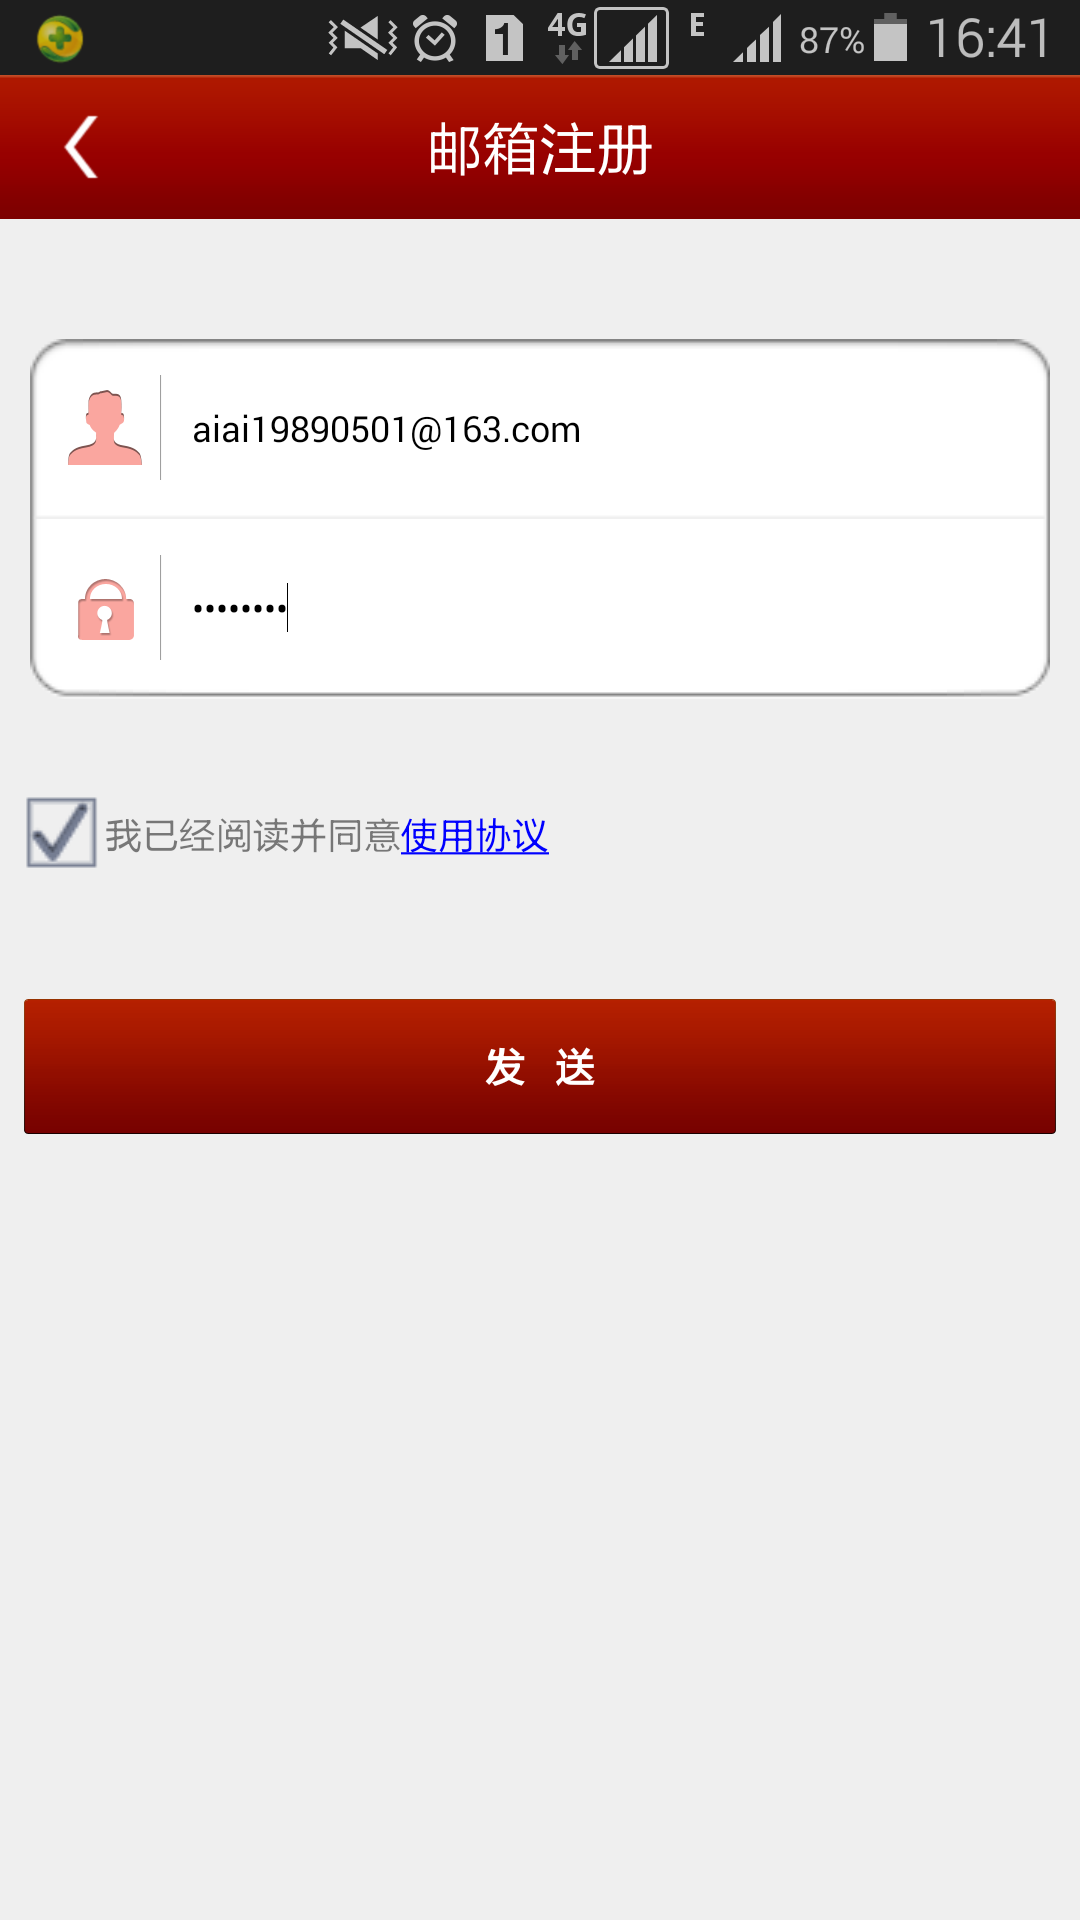button: (11, 982, 1071, 1149)
checkbox: (7, 774, 588, 889)
textview: (8, 314, 1065, 712)
